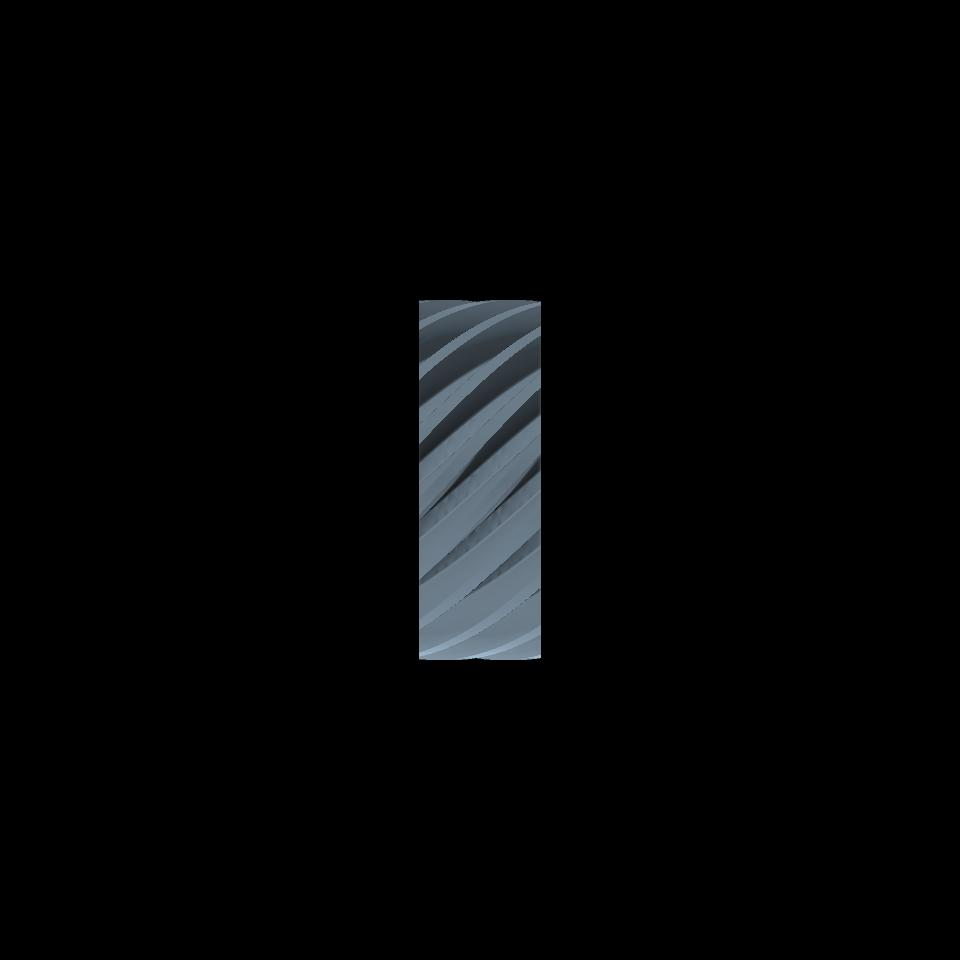Helical: (418, 299, 539, 659)
